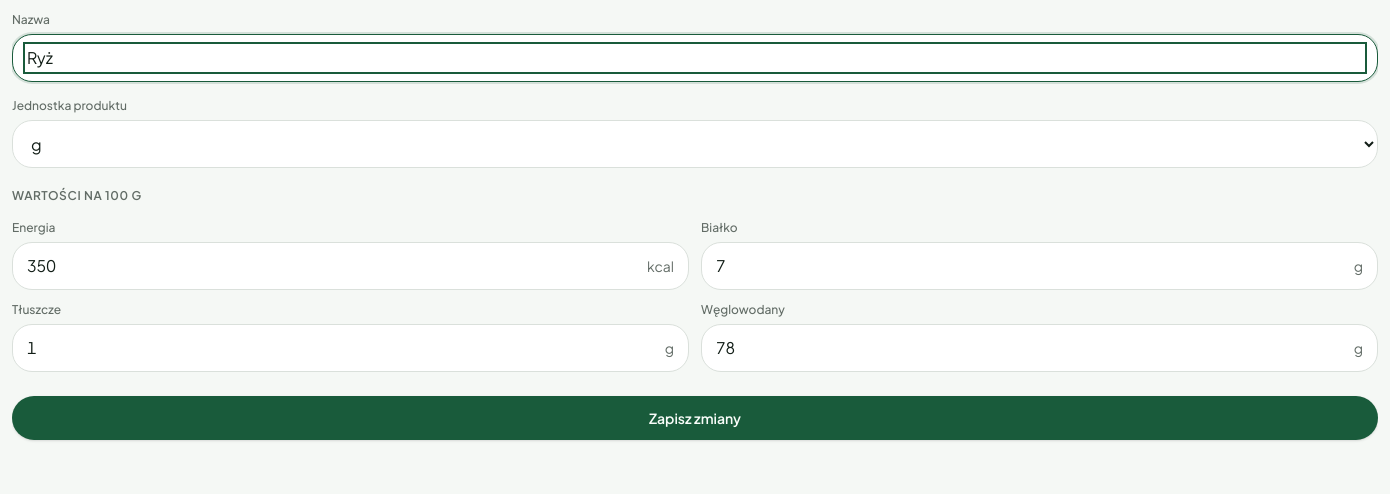
Scenario: ProductForm technical behavior › keeps edited values visible when the server rejects a save
The width and height of the screenshot is (1390, 494).
Step 1. Replace the text in the field labelled "Energia kcal" with "360" → (333, 266), box 27,254 -> 639,278
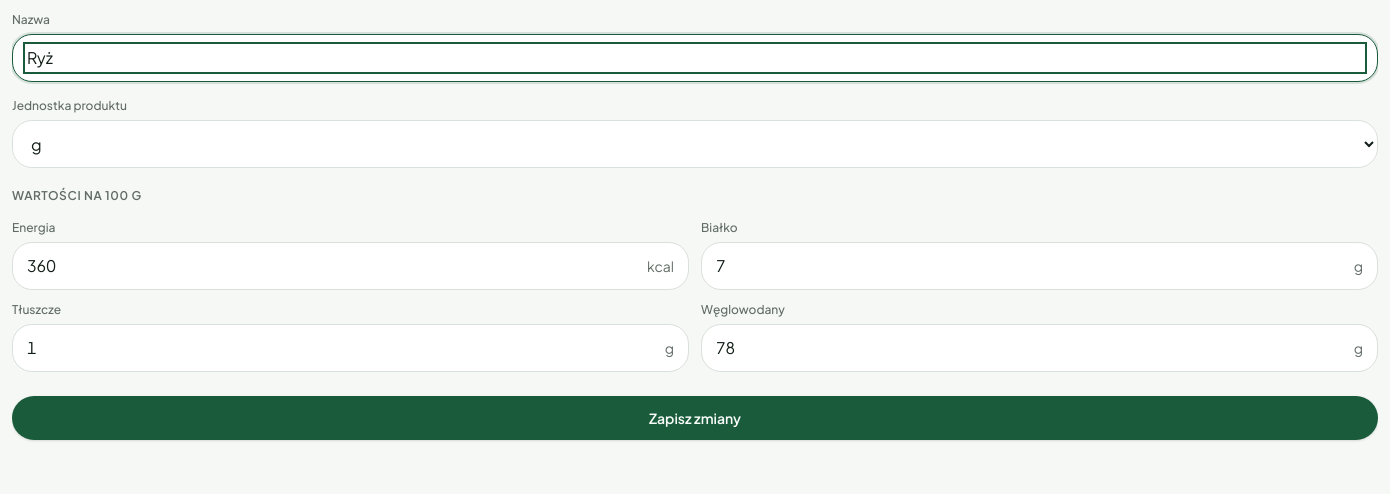
Step 2. Click the button "Zapisz zmiany" → (695, 418), box 12,396 -> 1378,440
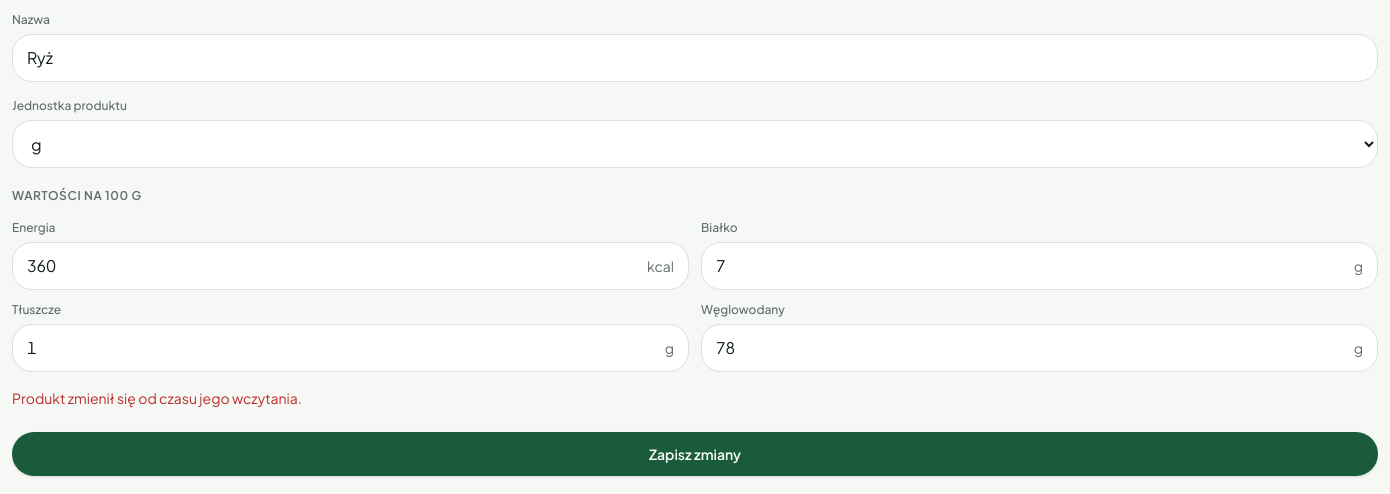
Check: the message reads "Produkt zmienił się od czasu jego wczytania.", box 12,389 -> 302,407
